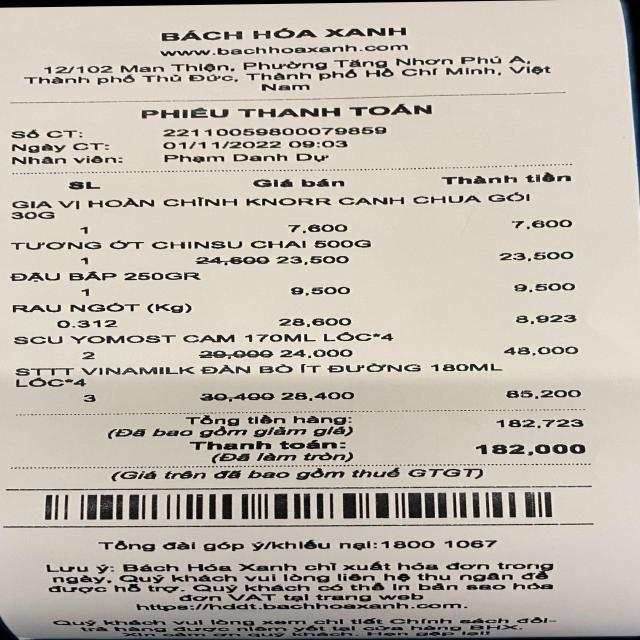Date: (148, 138, 286, 152)
Store_Name: (142, 18, 426, 46)
amount_number: (471, 440, 592, 458)
label_total: (187, 438, 342, 453)
